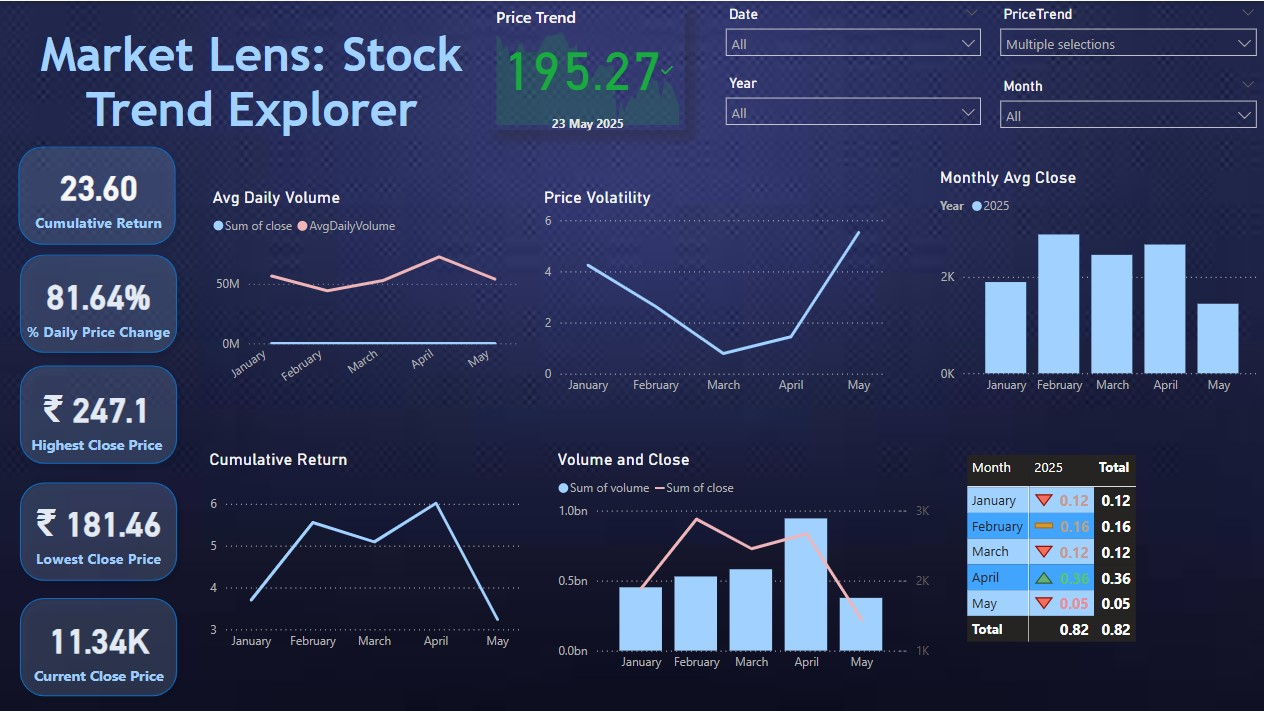

This screenshot's page, from the dashboard's own definition file:
{"tool":"powerbi","page":{"name":"Dashboard","canvas":[1280,720],"ordinal":3},"visuals":[{"type":"shape","box":[10.7,137.1,176.8,117.3],"z":1000},{"type":"slicer","fields":{"Values":["Stock Market.timestamp"]},"box":[723.8,0,277.1,68.1],"z":2000},{"type":"slicer","fields":{"Values":["Stock Market.PriceTrend"]},"box":[1001.1,0,278.9,70.1],"z":3000},{"type":"slicer","fields":{"Values":["Stock Market.timestamp.Variation.Date Hierarchy.Year"]},"box":[723.8,69.7,277.1,68.1],"z":4000},{"type":"slicer","fields":{"Values":["Stock Market.timestamp.Variation.Date Hierarchy.Month"]},"box":[1001.1,73.1,278.9,64],"z":5000},{"type":"textbox","box":[0,20,510,145],"z":6000},{"type":"card","fields":{"Values":["Sum(Stock Market.close)"]},"box":[12.2,608,176.8,89.9],"z":7000},{"type":"card","fields":{"Values":["Sum(Stock Market.%DailyPriceChange)"]},"box":[18.3,262.1,164.6,88.4],"z":8000},{"type":"card","fields":{"Values":["Stock Market.MaxClose"]},"box":[18.3,377.9,160,83.8],"z":9000},{"type":"card","fields":{"Values":["Stock Market.MinClose"]},"box":[22.9,489.1,155.4,93],"z":10000},{"type":"card","fields":{"Values":["Sum(Stock Market.Cumulative Return)"]},"box":[22.9,152.4,155.4,86.9],"z":11000},{"type":"kpi","title":"Price Trend","fields":{"TrendLine":["Stock Market.timestamp"],"Indicator":["Stock Market.Close Change"],"Goal":["Stock Market.Previous Close"]},"box":[496.7,4.5,195.3,125.7],"z":12000},{"type":"shape","box":[12.2,246.9,176.8,117.3],"z":13000},{"type":"shape","box":[12.2,594.3,176.8,117.3],"z":14000},{"type":"shape","box":[12.2,477,176.8,117.3],"z":15000},{"type":"shape","box":[12.2,359.6,176.8,117.3],"z":16000},{"type":"lineChart","title":"Avg Daily Volume","fields":{"Category":["Stock Market.timestamp.Variation.Date Hierarchy.Month"],"Y":["Sum(Stock Market.close)","Stock Market.AvgDailyVolume"]},"box":[210.3,187.4,318.5,217.9],"z":17000},{"type":"lineChart","title":"Cumulative Return","fields":{"Category":["Stock Market.timestamp.Variation.Date Hierarchy.Month"],"Y":["Sum(Stock Market.Cumulative Return)"]},"box":[207.1,452.9,325.7,211.4],"z":18000},{"type":"lineChart","title":"Price Volatility","fields":{"Category":["Stock Market.timestamp.Variation.Date Hierarchy.Month"],"Y":["Stock Market.PriceVolatility"]},"box":[545.7,187.1,355.7,218.6],"z":19000},{"type":"lineClusteredColumnComboChart","title":"Volume and Close","fields":{"Y":["Sum(Stock Market.volume)"],"Category":["Stock Market.timestamp.Variation.Date Hierarchy.Month"],"Y2":["Sum(Stock Market.close)"]},"box":[558.6,452.9,385.7,232.9],"z":20000},{"type":"lineClusteredColumnComboChart","title":"Monthly Avg Close","fields":{"Category":["Stock Market.timestamp.Variation.Date Hierarchy.Month"],"Y":["Sum(Stock Market.MonthlyAvgClose)"],"Series":["Stock Market.timestamp.Variation.Date Hierarchy.Year"]},"box":[944.9,168.1,334.6,237.7],"z":21000},{"type":"pivotTable","fields":{"Rows":["Stock Market.timestamp.Variation.Date Hierarchy.Month"],"Columns":["Stock Market.timestamp.Variation.Date Hierarchy.Year"],"Values":["Sum(Stock Market.%DailyPriceChange)"]},"box":[971.4,452.9,308.6,258.6],"z":22000}]}

Visuals, with their boxes in screenshot pixels (x1, y1, x2, y2), scaled from the page's 1280x720 canvas onto the 1264x711 screenshot:
shape: select_region(11, 135, 185, 251)
slicer - Stock Market.timestamp: select_region(715, 0, 988, 67)
slicer - Stock Market.PriceTrend: select_region(989, 0, 1263, 69)
slicer - Stock Market.timestamp.Variation.Date Hierarchy.Year: select_region(715, 69, 988, 136)
slicer - Stock Market.timestamp.Variation.Date Hierarchy.Month: select_region(989, 72, 1263, 135)
textbox: select_region(0, 20, 504, 163)
card - Sum(Stock Market.close): select_region(12, 600, 187, 689)
card - Sum(Stock Market.%DailyPriceChange): select_region(18, 259, 181, 346)
card - Stock Market.MaxClose: select_region(18, 373, 176, 456)
card - Stock Market.MinClose: select_region(23, 483, 176, 575)
card - Sum(Stock Market.Cumulative Return): select_region(23, 150, 176, 236)
"Price Trend" kpi: select_region(490, 4, 683, 129)
shape: select_region(12, 244, 187, 360)
shape: select_region(12, 587, 187, 703)
shape: select_region(12, 471, 187, 587)
shape: select_region(12, 355, 187, 471)
"Avg Daily Volume" lineChart: select_region(208, 185, 522, 400)
"Cumulative Return" lineChart: select_region(205, 447, 526, 656)
"Price Volatility" lineChart: select_region(539, 185, 890, 401)
"Volume and Close" lineClusteredColumnComboChart: select_region(552, 447, 932, 677)
"Monthly Avg Close" lineClusteredColumnComboChart: select_region(933, 166, 1263, 401)
pivotTable - Stock Market.timestamp.Variation.Date Hierarchy.Month x Stock Market.timestamp.Variation.Date Hierarchy.Year: select_region(959, 447, 1263, 703)
